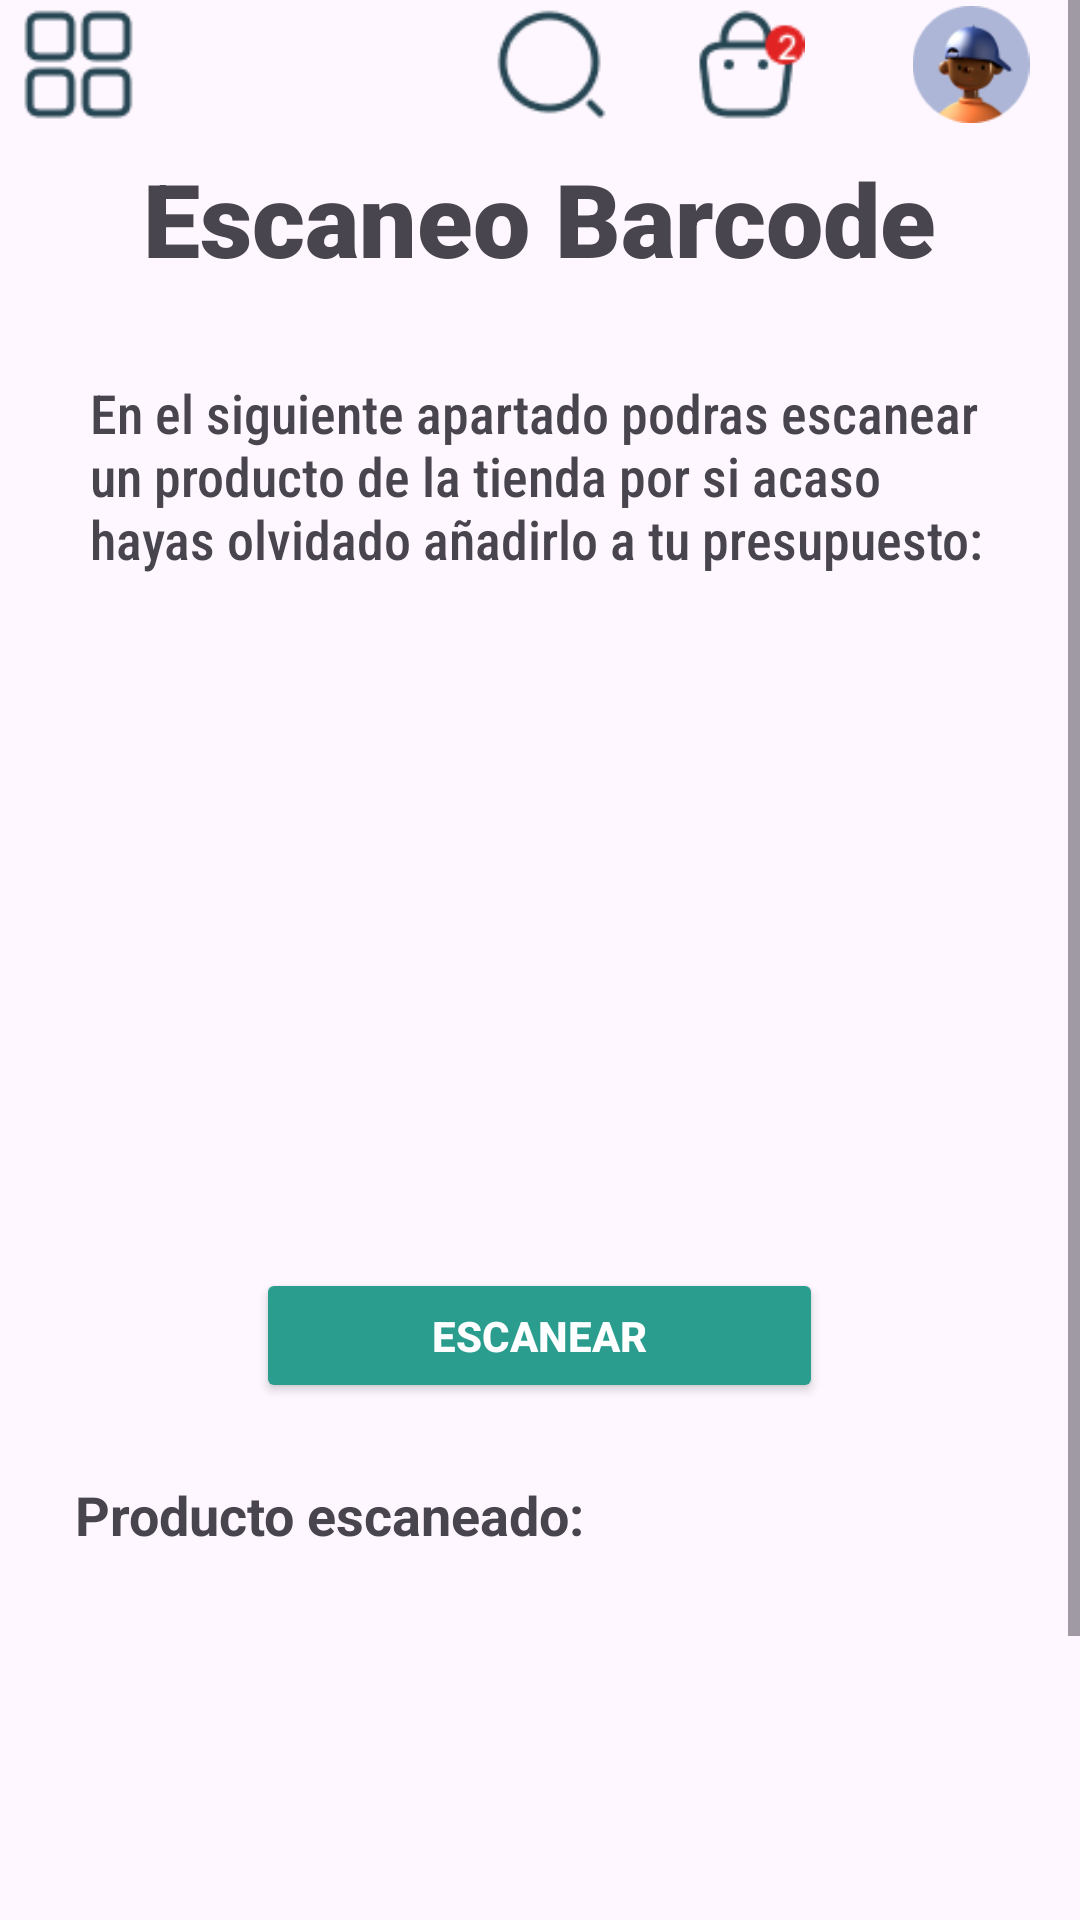

Point at icon controls on the screen. Image size 1080w x 1920h, points as [x,y].
bag: [752,64]
element: [78,64]
searchnormal: [551,64]
